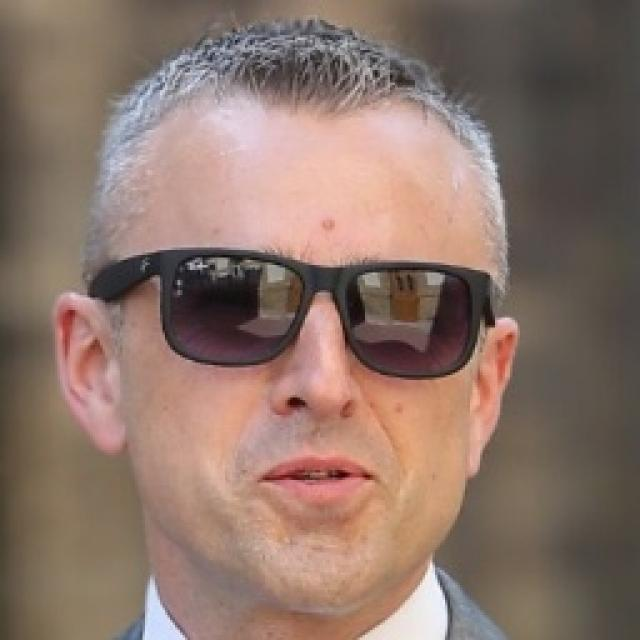glasses: (110, 239, 508, 388)
